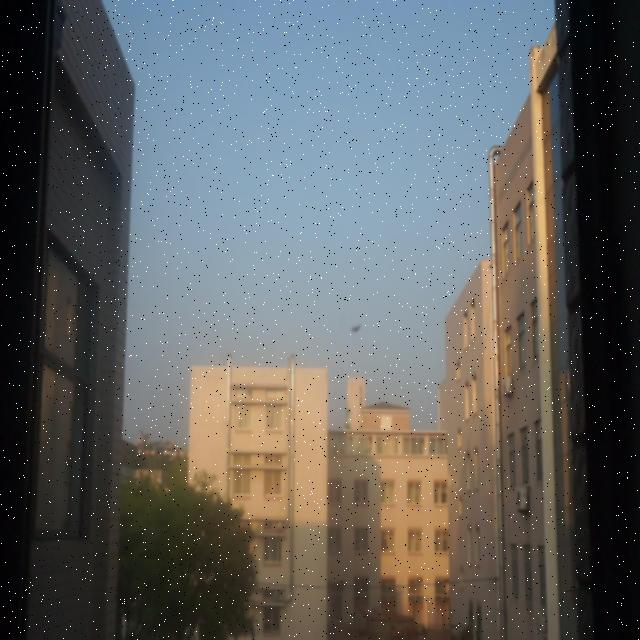UAV: (352, 324, 361, 333)
